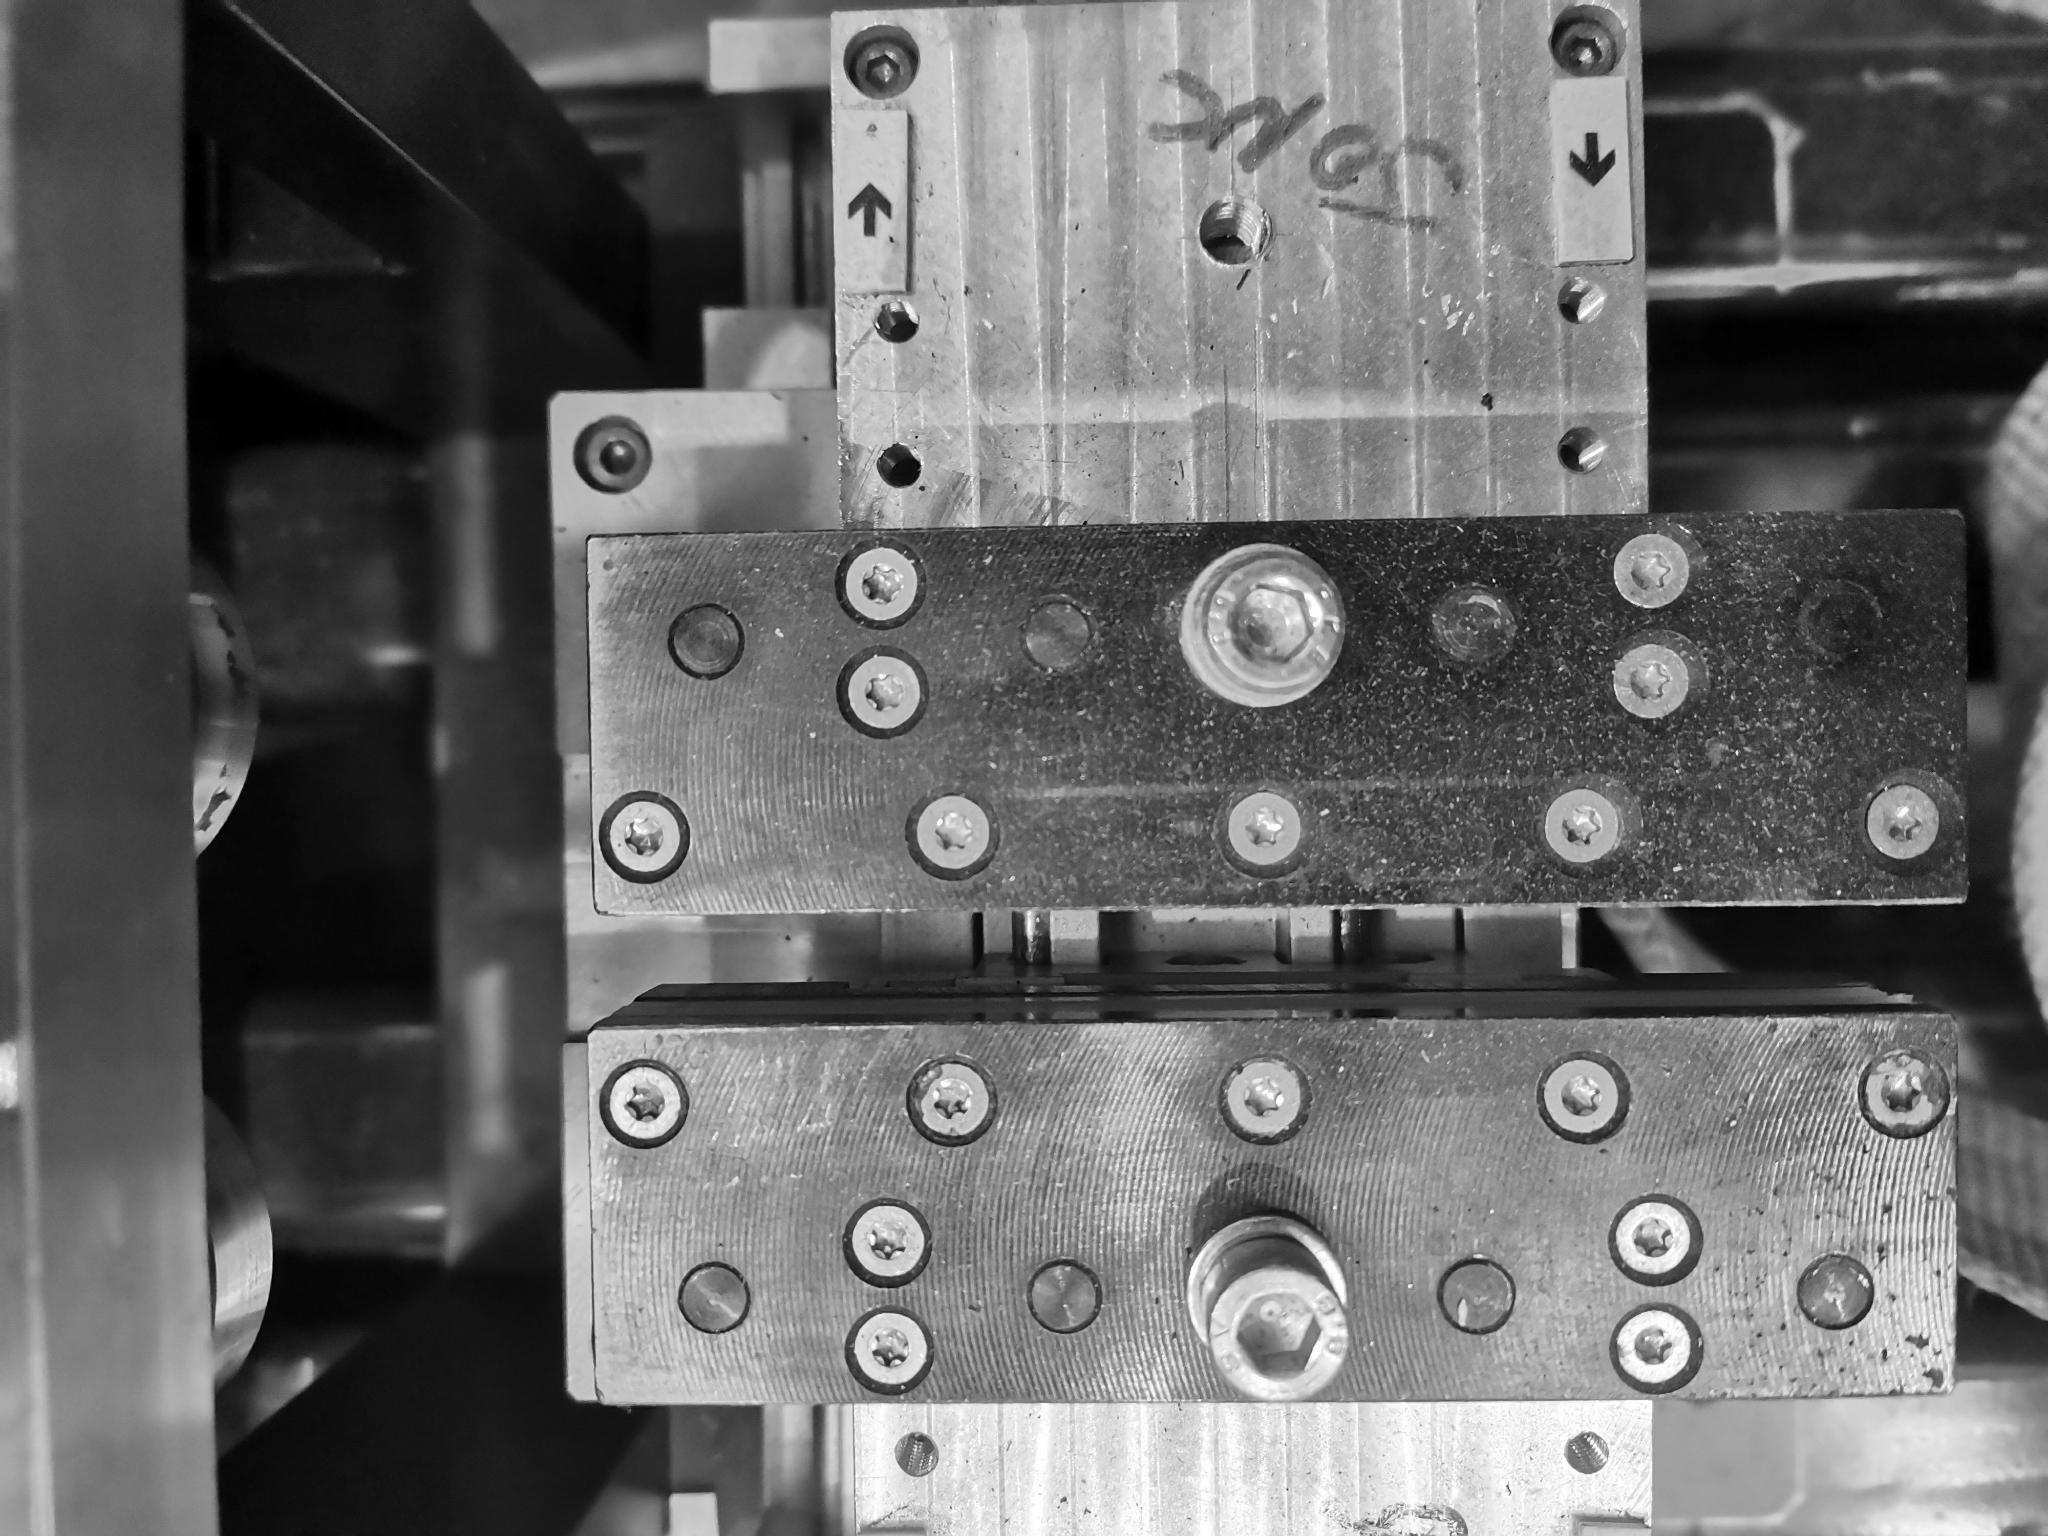screw: (1174, 1205, 1374, 1392), (1168, 534, 1356, 715), (1529, 1041, 1642, 1152), (1205, 776, 1316, 887), (897, 1049, 1003, 1158), (1851, 1036, 1956, 1147), (1209, 1047, 1316, 1155), (1598, 1184, 1708, 1289), (590, 783, 698, 887), (900, 781, 1006, 886), (1601, 1304, 1706, 1404), (827, 531, 930, 631), (832, 1300, 935, 1400), (827, 650, 932, 749), (832, 1199, 932, 1299), (590, 1060, 690, 1157), (1534, 774, 1630, 873), (1861, 779, 1953, 873), (1606, 636, 1700, 726), (1606, 531, 1700, 621), (569, 408, 656, 497), (842, 21, 927, 98), (1546, 2, 1630, 79)
